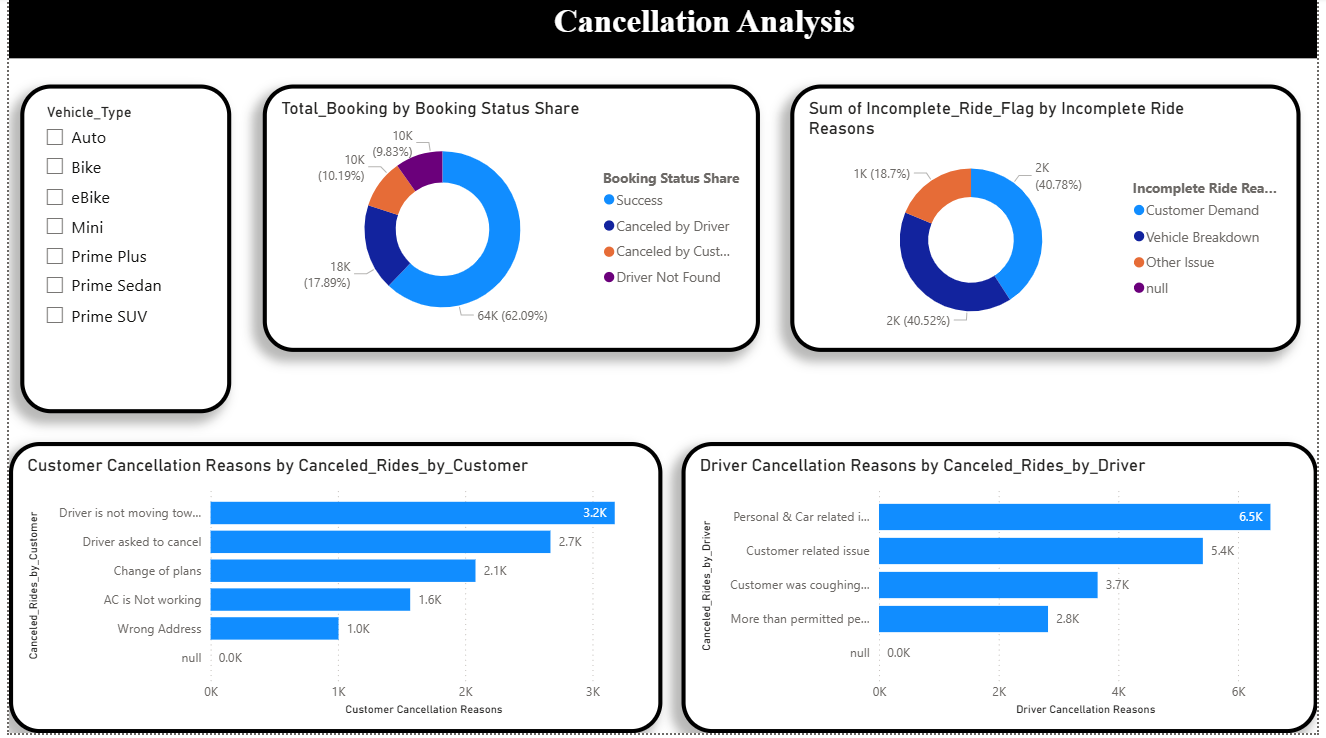

What the dashboard file says about the page in this screenshot:
{"tool":"powerbi","page":{"name":"Page 2","canvas":[1280,720],"ordinal":1},"visuals":[{"type":"clusteredBarChart","fields":{"Category":["July1.Canceled_Rides_by_Customer"],"Y":["Sum(July1.Customer_Canceled)"]},"box":[0,435.3,639.5,284.9],"z":0},{"type":"clusteredBarChart","fields":{"Y":["Sum(July1.Driver_Canceled)"],"Category":["July1.Canceled_Rides_by_Driver"]},"box":[657.9,435.3,622.4,284.9],"z":1000},{"type":"donutChart","fields":{"Category":["July1.Incomplete_Rides_Reason"],"Y":["Sum(July1.Incomplete_Ride_Flag)"]},"box":[764.3,85.6,498.9,261.7],"z":2000},{"type":"slicer","fields":{"Values":["July1.Vehicle_Type"]},"box":[11,85.6,206.7,321.6],"z":3000},{"type":"donutChart","fields":{"Y":["Sum(July1.Total_Booking)"],"Category":["July1.Booking_Status"]},"box":[248.2,85.6,486.7,261.7],"z":4000},{"type":"textbox","box":[0,0,1280.3,59.9],"z":5000}]}

Visuals, with their boxes in screenshot pixels (x1, y1, x2, y2), scaled from the page's 1280x720 canvas onto the 1326x738 screenshot:
clusteredBarChart - July1.Canceled_Rides_by_Customer x Sum(July1.Customer_Canceled): x1=0 y1=446 x2=662 y2=737
clusteredBarChart - Sum(July1.Driver_Canceled) x July1.Canceled_Rides_by_Driver: x1=682 y1=446 x2=1325 y2=737
donutChart - July1.Incomplete_Rides_Reason x Sum(July1.Incomplete_Ride_Flag): x1=792 y1=88 x2=1309 y2=356
slicer - July1.Vehicle_Type: x1=11 y1=88 x2=226 y2=417
donutChart - Sum(July1.Total_Booking) x July1.Booking_Status: x1=257 y1=88 x2=761 y2=356
textbox: x1=0 y1=0 x2=1325 y2=61
